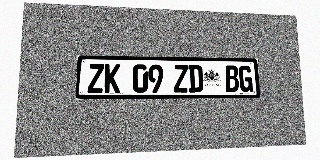0: (132, 64, 148, 93)
9: (148, 64, 163, 93)
B: (225, 65, 239, 92)
D: (188, 65, 203, 92)
G: (239, 65, 253, 92)
K: (104, 64, 120, 93)
Z: (87, 64, 104, 93), (174, 65, 188, 93)
